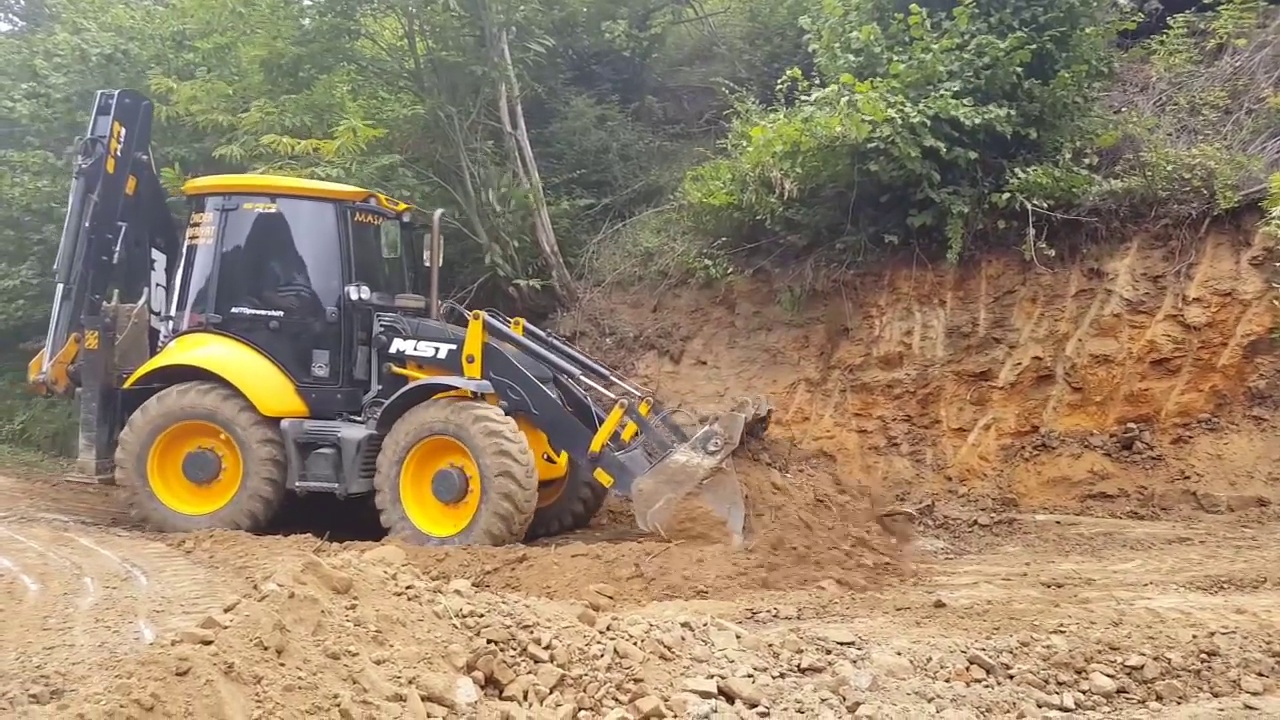wheel loader: (26, 87, 789, 557)
